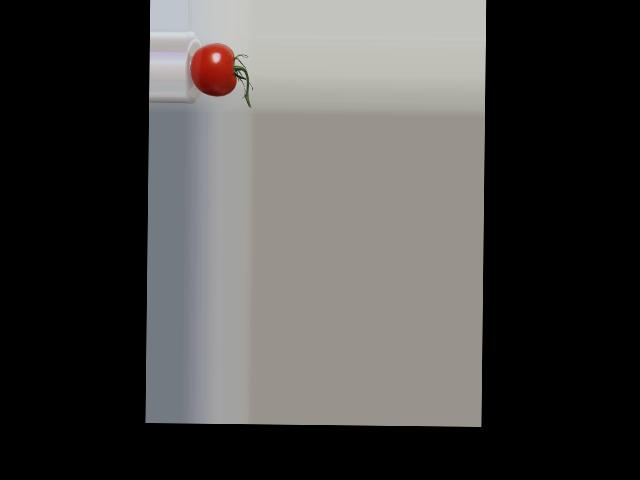tomato: (190, 43, 236, 97)
